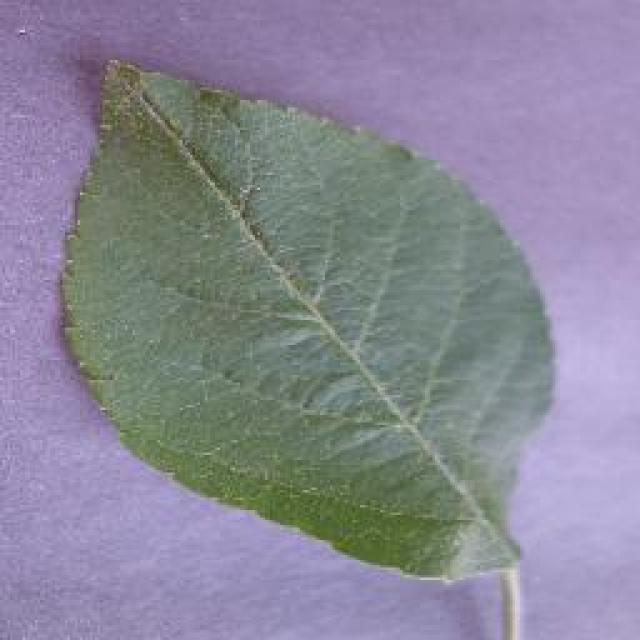apple healthy: (55, 55, 557, 585)
